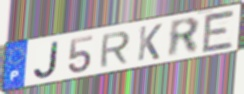5: (67, 34, 95, 74)
E: (201, 9, 237, 54)
J: (32, 39, 61, 80)
K: (136, 22, 164, 63)
R: (167, 16, 201, 60), (98, 30, 132, 70)
